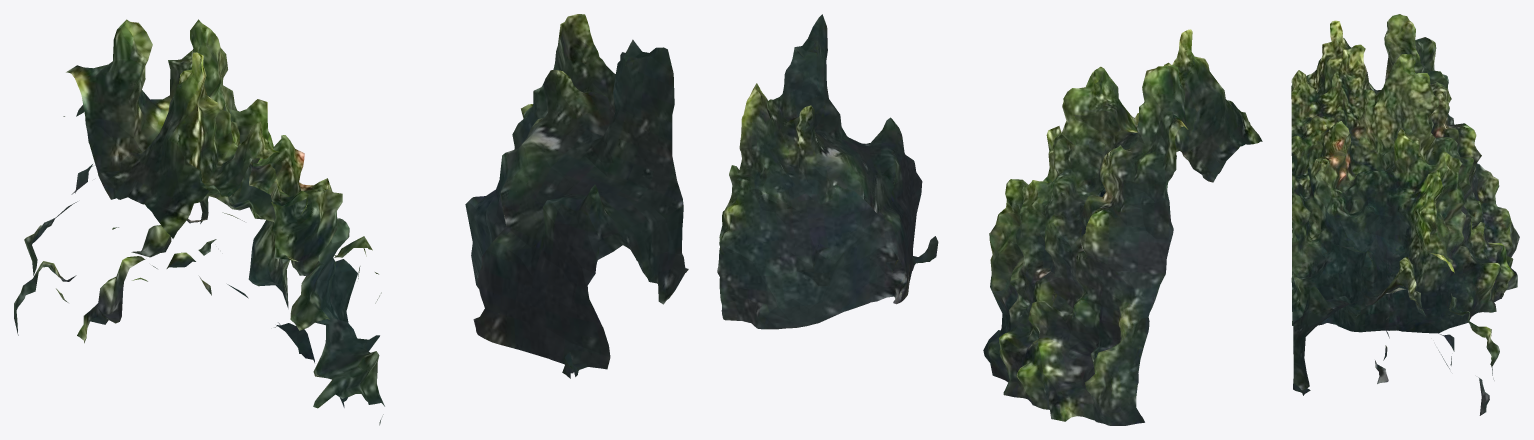
The model's file is Tile_+006_+007_L22_0002370.glb.
3 views of the same model, side by side, from view 1: azimuth 30°, elevation 25°; view 2: azimuth 150°, elevation 25°; view 3: azimuth 270°, elevation 25° (orthographic). The views are drawn at different scales.
Parts seen in each view (by area): view 1: rtc; view 2: rtc; view 3: rtc.
Boxes of the visible parts, bbox=[...] form: rtc: bbox=[14, 14, 688, 425]; rtc: bbox=[717, 14, 1262, 425]; rtc: bbox=[1291, 14, 1519, 415].
Bounding box in the file's own units: 9.01 × 6.39 × 5.16.
Materials: 1 (1 with a texture image).
